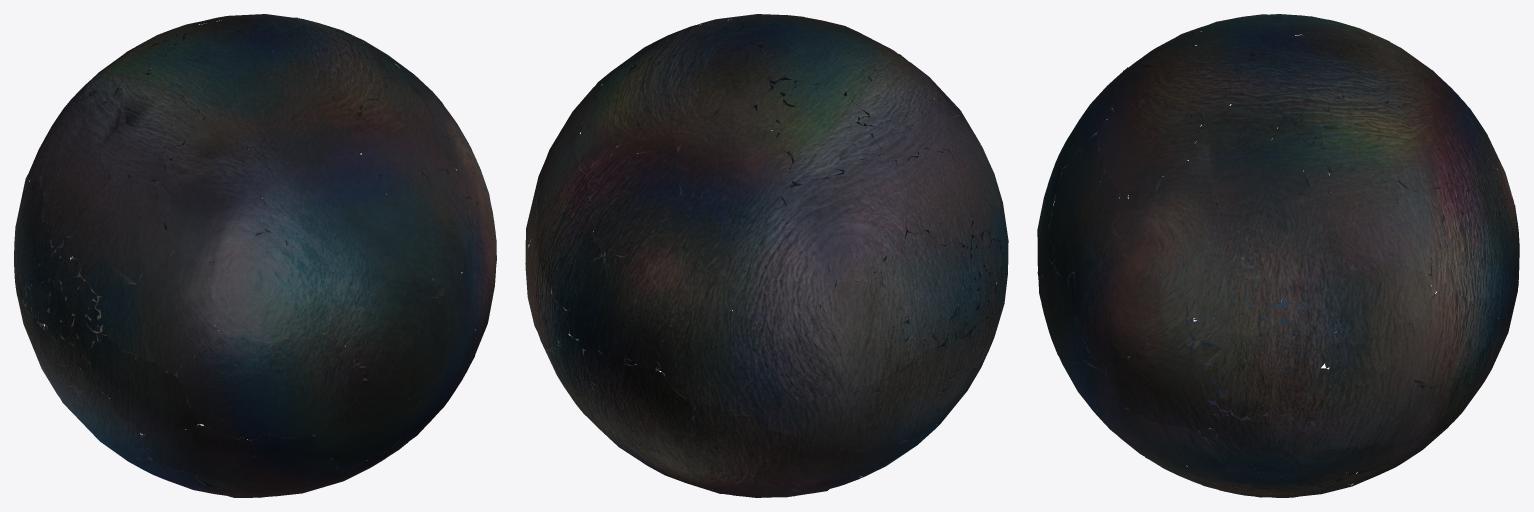
Rendered from Textured Iridescent Orb.glb.
3 views of the same model, side by side, from view 1: azimuth 30°, elevation 25°; view 2: azimuth 150°, elevation 25°; view 3: azimuth 270°, elevation 25° (orthographic).
Visible parts, largest first — view 1: texture_mapping; view 2: texture_mapping; view 3: texture_mapping.
Part boxes in pixels (box(x1,y1,x2,y2)): texture_mapping: box(14, 14, 496, 497); texture_mapping: box(525, 14, 1008, 497); texture_mapping: box(1037, 14, 1519, 497).
Size of the model in its own units: 0.9998 by 1 by 0.9989.
1 material, 1 textured.
